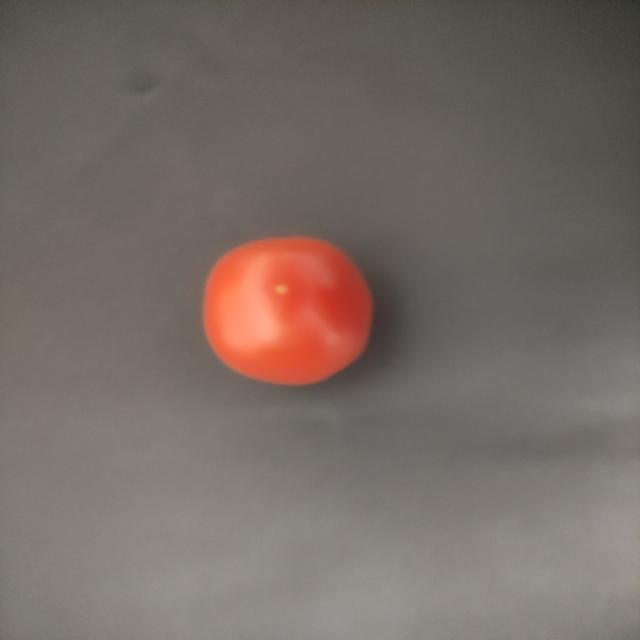kirmizi: (177, 223, 404, 410)
